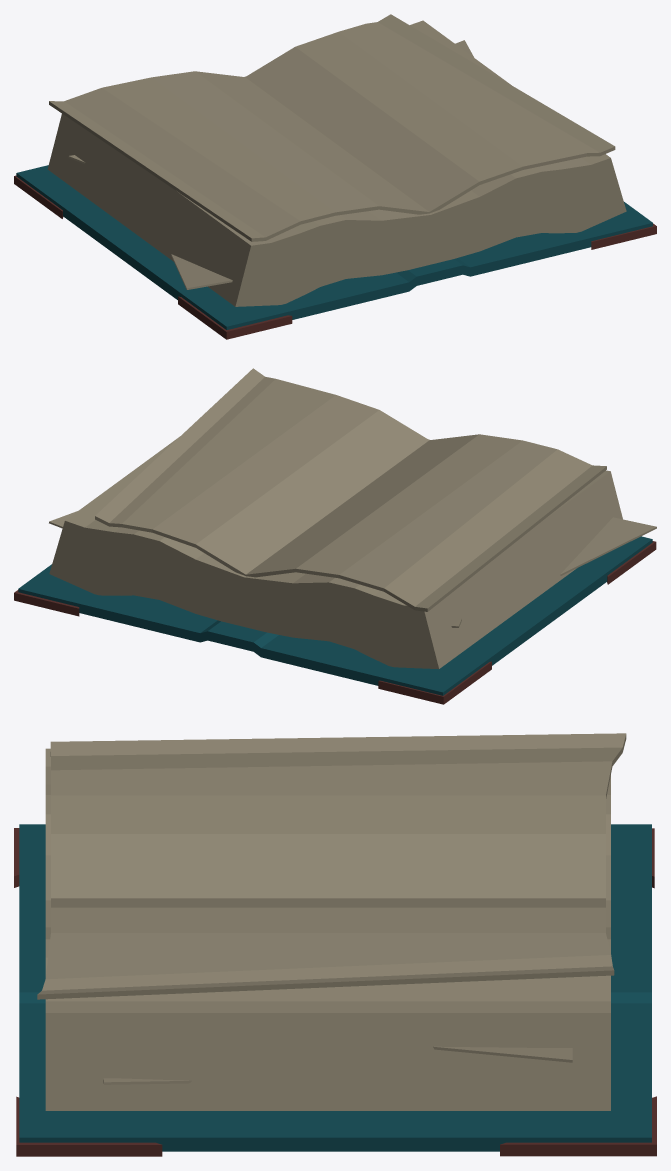
Rendered from quaternius-rpg-items-book-4-open.glb.
The picture shows the model from 3 angles, top to bottom: view 1: azimuth 30°, elevation 25°; view 2: azimuth 150°, elevation 25°; view 3: azimuth 270°, elevation 25°; orthographic projection. The views are drawn at different scales.
Visible parts, largest first — view 1: Book4_Open; view 2: Book4_Open; view 3: Book4_Open.
Boxes of the visible parts, box(x1,y1,x2,y2) form: Book4_Open: box(14, 14, 656, 339); Book4_Open: box(14, 368, 656, 704); Book4_Open: box(14, 733, 656, 1156).
Bounding box in the file's own units: 0.9176 × 0.1764 × 0.752.
